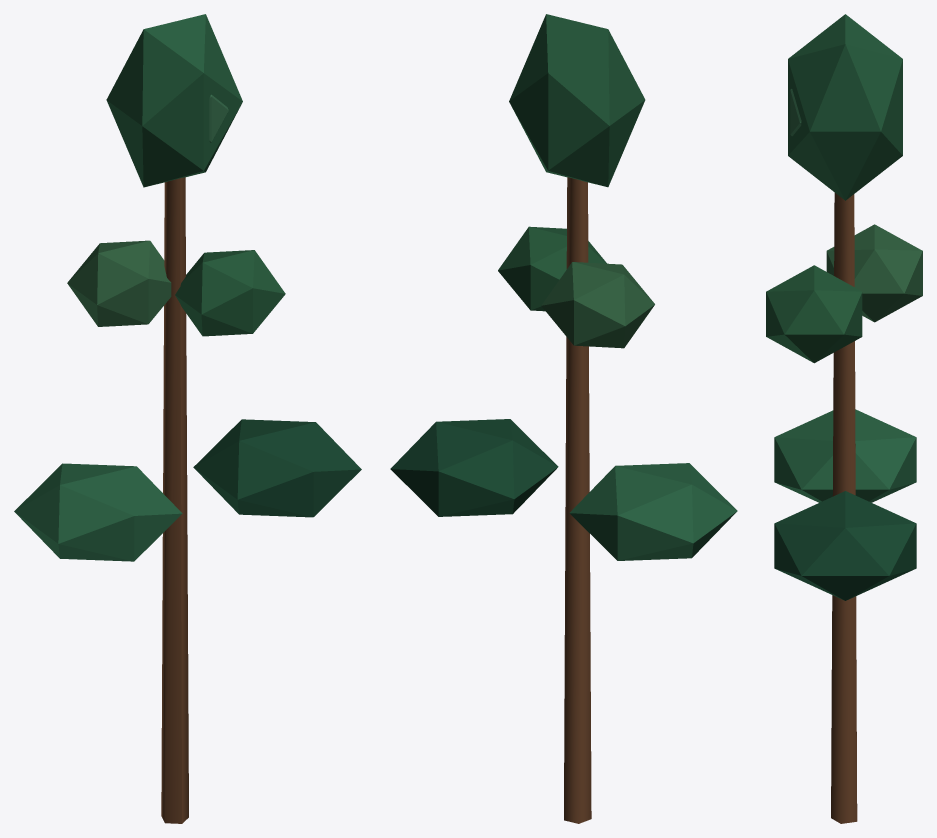
File: pine-open.far.glb
The picture shows the model from 3 angles, left to right: view 1: azimuth 30°, elevation 25°; view 2: azimuth 150°, elevation 25°; view 3: azimuth 270°, elevation 25°; orthographic projection.
Visible parts, largest first — view 1: foliage, wood; view 2: foliage, wood; view 3: foliage, wood.
Boxes of the visible parts, x1=… form: foliage: x1=14, y1=14, x2=361, y2=561; wood: x1=161, y1=177, x2=188, y2=823; foliage: x1=390, y1=14, x2=737, y2=560; wood: x1=564, y1=177, x2=591, y2=823; foliage: x1=766, y1=14, x2=922, y2=600; wood: x1=831, y1=193, x2=857, y2=823.
Bounding box in the file's own units: 5.98 × 15 × 2.7.
